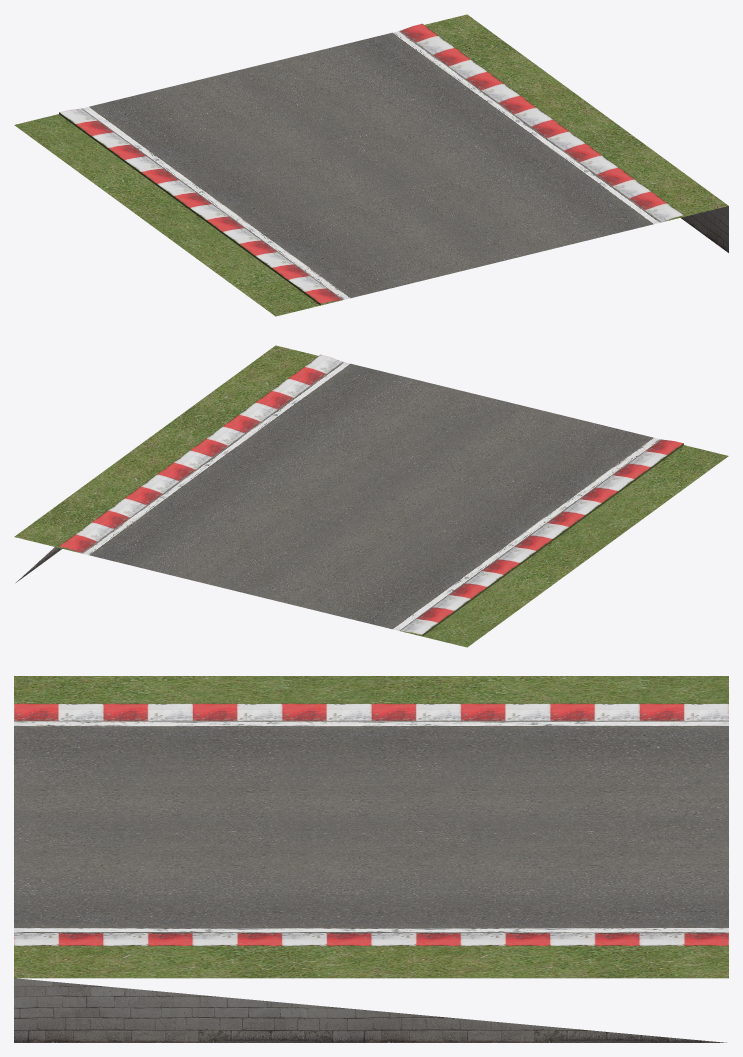
The model's file is map3.obj.
3 views of the same model, one above another, from view 1: azimuth 30°, elevation 25°; view 2: azimuth 150°, elevation 25°; view 3: azimuth 270°, elevation 25° (orthographic). The views are drawn at different scales.
Visible parts, largest first — view 1: map4.001; view 2: map4.001; view 3: map4.001.
Boxes of the visible parts, x1,y1,x2,y2 form: map4.001: (14,14,728,316); map4.001: (14,345,728,647); map4.001: (14,676,728,1042).
Bounding box in the file's own units: 5.05 × 0.5231 × 5.05.
Materials: 4 (4 with a texture image).
